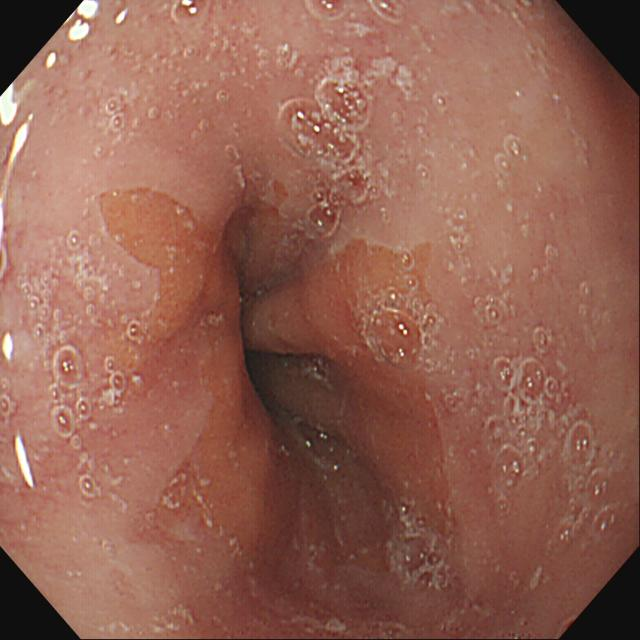I: (93, 174, 482, 606)
T: (476, 290, 624, 548), (25, 228, 143, 504), (95, 45, 246, 164), (280, 67, 381, 237), (358, 237, 443, 371), (385, 502, 462, 593), (494, 133, 529, 216), (302, 3, 412, 25), (167, 2, 218, 29)
U: (2, 115, 33, 195), (14, 431, 37, 492), (69, 2, 99, 44), (2, 84, 20, 127)
